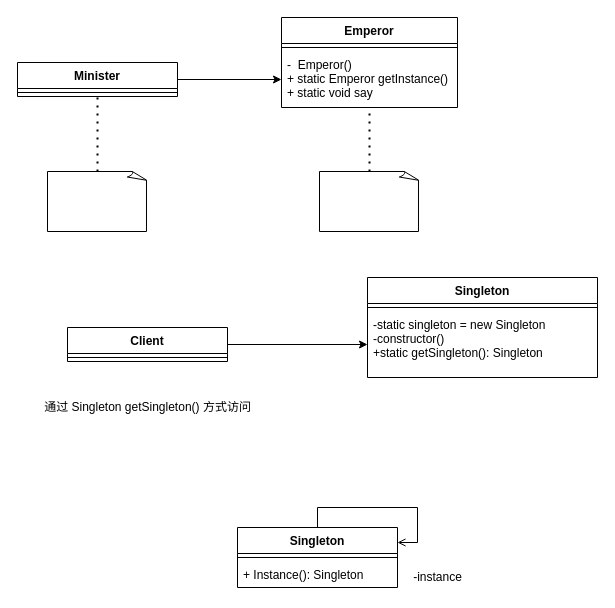
Image size: 615x608. Some labels were removed from this diagram. Here are the shapes that lost their labels. From the top down, the centre of each, then its label:
point 97,201: 臣子类
point 369,201: 皇帝类
